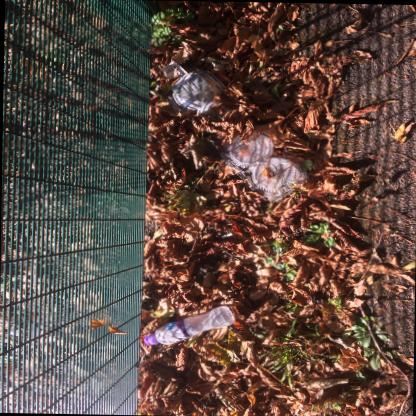Paper: (160, 59, 191, 86), (219, 231, 231, 237)
Plastic: (143, 304, 234, 344), (143, 332, 156, 344)
Waste: (218, 130, 307, 201), (167, 67, 226, 120)
